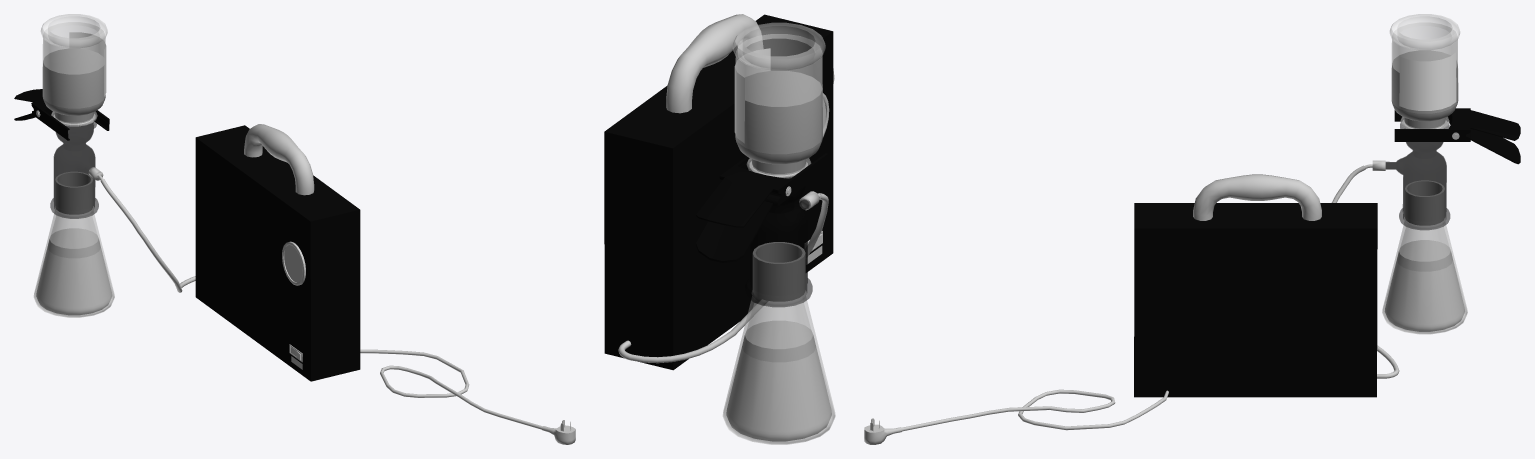
File: SM_微孔滤膜过滤器.FBX
3 views of the same model, side by side, from view 1: azimuth 30°, elevation 25°; view 2: azimuth 150°, elevation 25°; view 3: azimuth 270°, elevation 25° (orthographic). The views are drawn at different scales.
Parts seen in each view (by area): view 1: SM_微孔滤膜过滤器_7, SM_微孔滤膜过滤器_1, SM_微孔滤膜过滤器_4, SM_微孔滤膜过滤器_液体, SM_微孔滤膜过滤器_液体01, SM_微孔滤膜过滤器_2, SM_微孔滤膜过滤器_5, SM_微孔滤膜过滤器_6; view 2: SM_微孔滤膜过滤器_7, SM_微孔滤膜过滤器_1, SM_微孔滤膜过滤器_4, SM_微孔滤膜过滤器_液体, SM_微孔滤膜过滤器_液体01, SM_微孔滤膜过滤器_5, SM_微孔滤膜过滤器_2, SM_微孔滤膜过滤器_6; view 3: SM_微孔滤膜过滤器_7, SM_微孔滤膜过滤器_1, SM_微孔滤膜过滤器_4, SM_微孔滤膜过滤器_液体, SM_微孔滤膜过滤器_2, SM_微孔滤膜过滤器_5, SM_微孔滤膜过滤器_液体01.
Boxes of the visible parts, x1,y1,x2,y2 form: SM_微孔滤膜过滤器_7: (195,124,575,444); SM_微孔滤膜过滤器_1: (33,171,114,317); SM_微孔滤膜过滤器_4: (40,14,107,126); SM_微孔滤膜过滤器_液体: (36,228,112,315); SM_微孔滤膜过滤器_液体01: (42,48,105,123); SM_微孔滤膜过滤器_2: (50,112,103,218); SM_微孔滤膜过滤器_5: (14,89,109,140); SM_微孔滤膜过滤器_6: (100,179,195,292); SM_微孔滤膜过滤器_7: (604,14,834,370); SM_微孔滤膜过滤器_1: (722,242,835,444); SM_微孔滤膜过滤器_4: (732,22,825,178); SM_微孔滤膜过滤器_液体: (726,321,831,441); SM_微孔滤膜过滤器_液体01: (735,71,822,175); SM_微孔滤膜过滤器_5: (696,153,828,262); SM_微孔滤膜过滤器_2: (745,159,820,307); SM_微孔滤膜过滤器_6: (618,193,828,363); SM_微孔滤膜过滤器_7: (864,174,1377,444); SM_微孔滤膜过滤器_1: (1382,180,1467,334); SM_微孔滤膜过滤器_4: (1389,14,1460,128); SM_微孔滤膜过滤器_液体: (1385,240,1464,331); SM_微孔滤膜过滤器_2: (1364,118,1450,230); SM_微孔滤膜过滤器_5: (1394,108,1520,164); SM_微孔滤膜过滤器_液体01: (1391,50,1458,128).
Bounding box in the file's own units: 0.4705 × 0.4607 × 0.9269.
